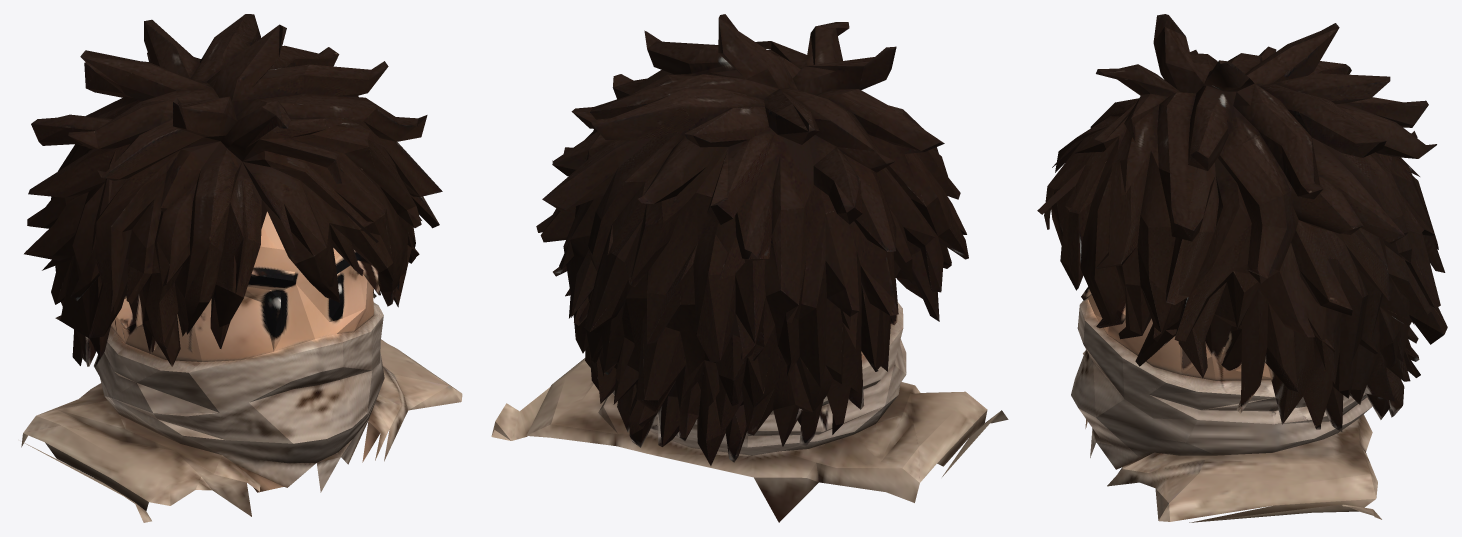
The model's file is patient_head.glb.
The picture shows the model from 3 angles, left to right: view 1: azimuth 30°, elevation 25°; view 2: azimuth 150°, elevation 25°; view 3: azimuth 270°, elevation 25°; orthographic projection. The views are drawn at different scales.
Parts seen in each view (by area): view 1: head; view 2: head; view 3: head.
Part boxes in pixels (x1,y1,x2,y2): head: (21, 14, 462, 522); head: (491, 14, 1008, 522); head: (1037, 14, 1447, 522).
Bounding box in the file's own units: 0.6163 × 0.6331 × 0.5556.
Materials: 1 (1 with a texture image).
